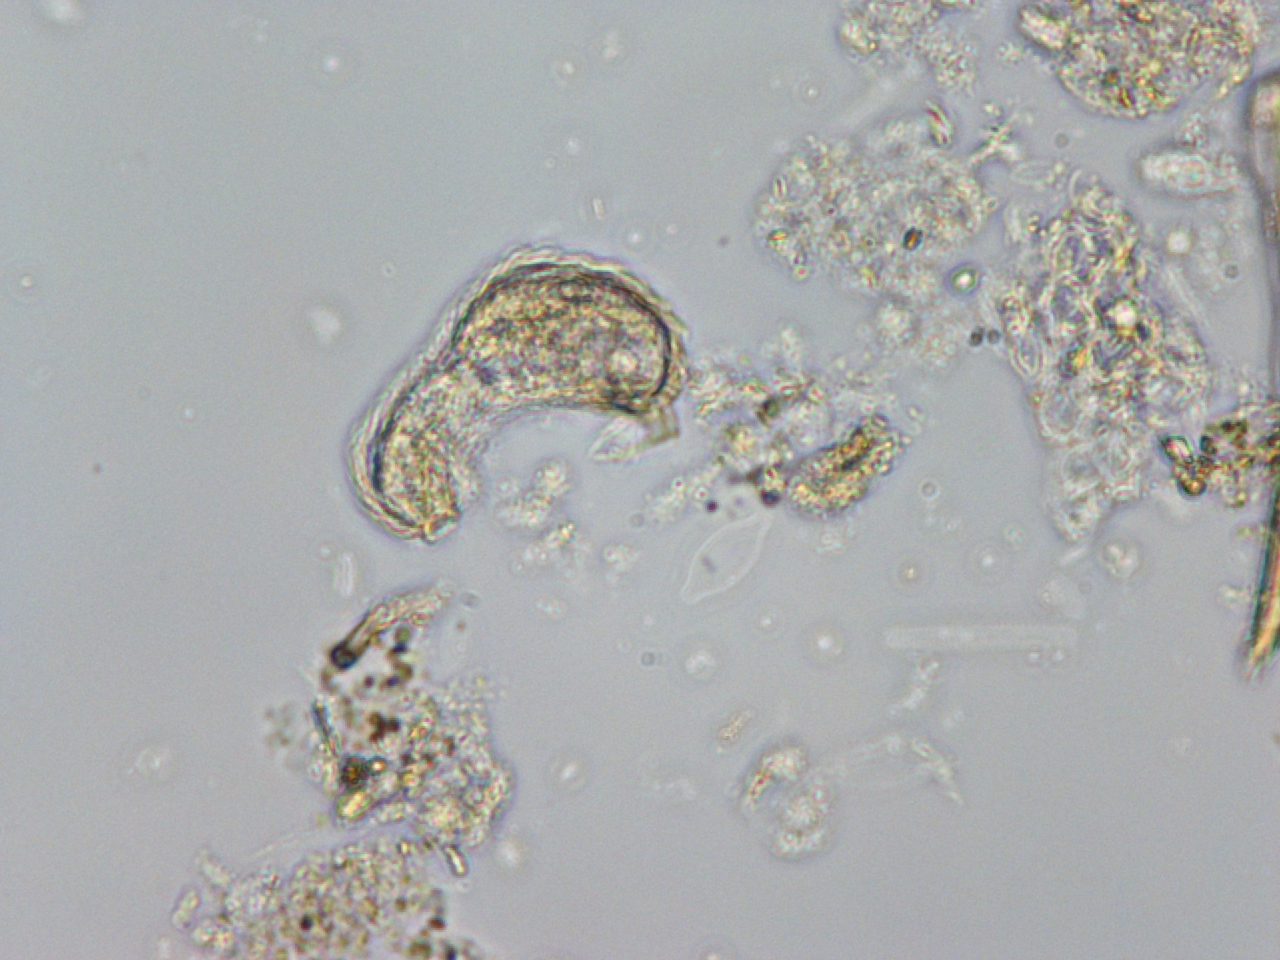gastrotricha: (342, 238, 698, 545)
